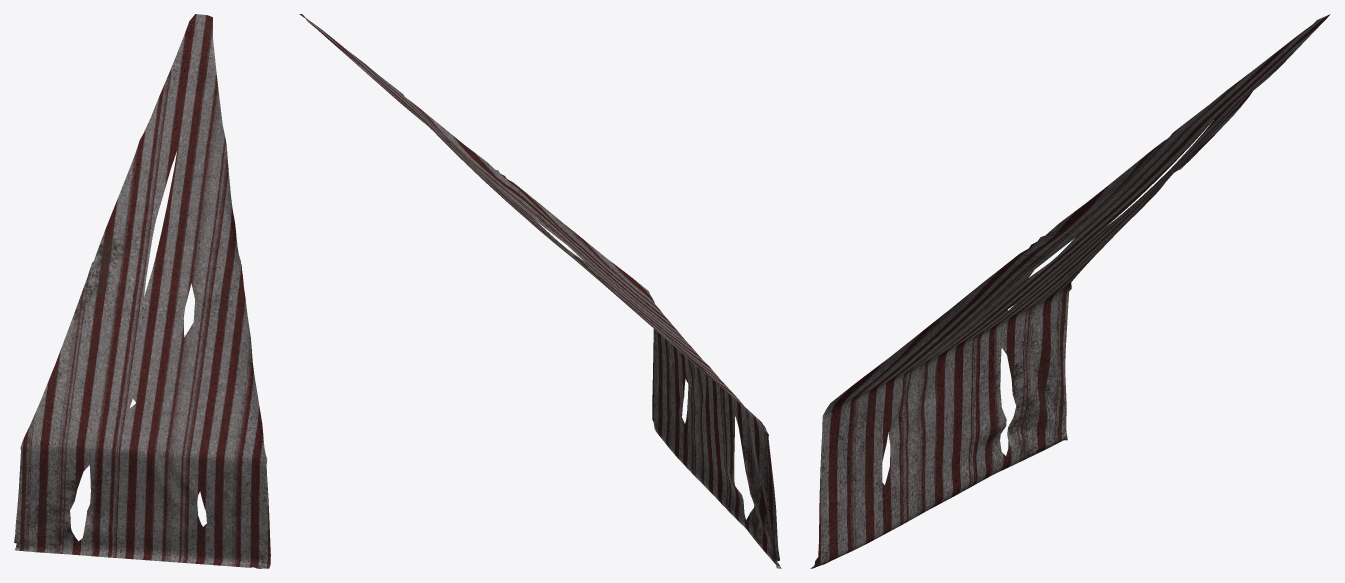
Rendered from Tent_P_Rag08.FBX.
The picture shows the model from 3 angles, left to right: view 1: azimuth 30°, elevation 25°; view 2: azimuth 150°, elevation 25°; view 3: azimuth 270°, elevation 25°; orthographic projection. The views are drawn at different scales.
Parts seen in each view (by area): view 1: Tent_P_Rag08; view 2: Tent_P_Rag08; view 3: Tent_P_Rag08.
Part boxes in pixels (left/top/right/bottom): Tent_P_Rag08: left=14, top=14, right=270, bottom=568; Tent_P_Rag08: left=299, top=14, right=781, bottom=568; Tent_P_Rag08: left=810, top=14, right=1330, bottom=568.
Bounding box in the file's own units: 1236 × 1722 × 1296.
